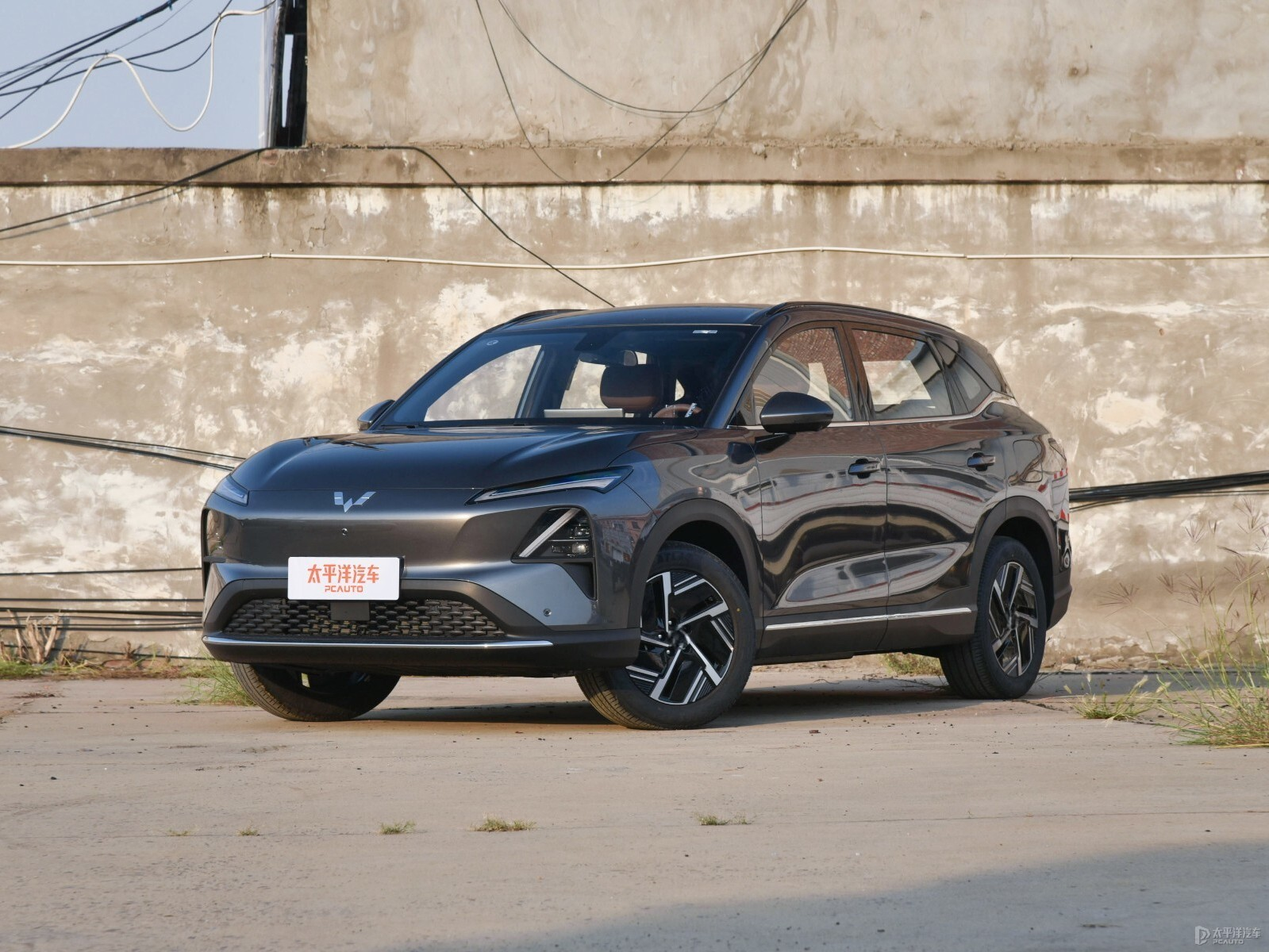SGMW: (334, 492, 375, 512)
